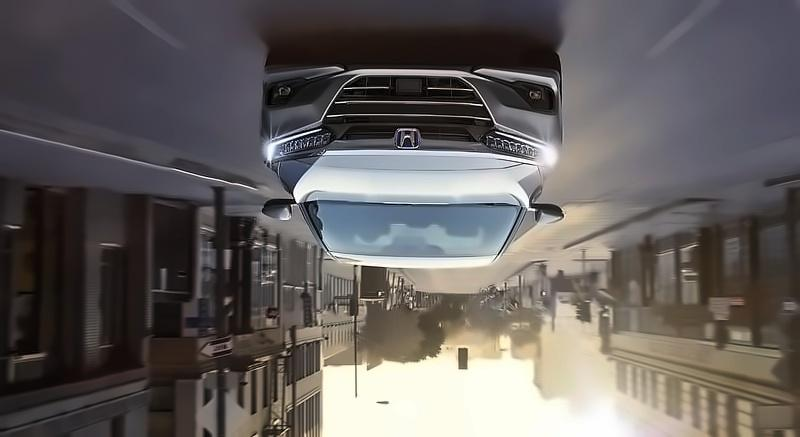Car hood: (283, 154, 550, 204)
Front bumper: (255, 62, 564, 155)
Headlight - -L-: (261, 126, 338, 165)
Headlight - -R-: (477, 128, 559, 166)
Side mirror - -L-: (262, 197, 295, 220)
Side mirror - -R-: (524, 199, 566, 226)
